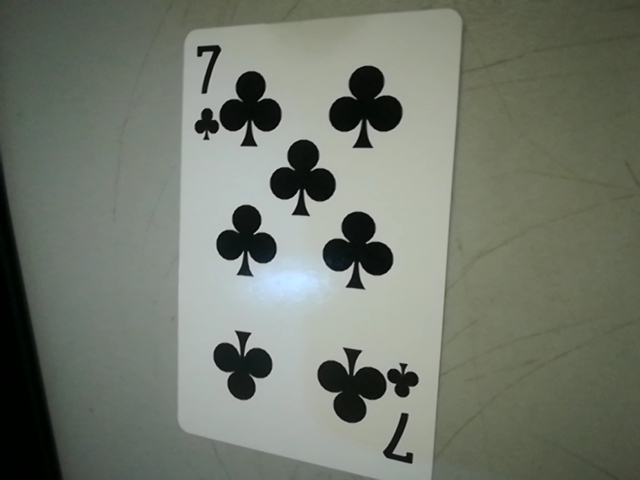mh 7: (378, 361, 433, 475)
